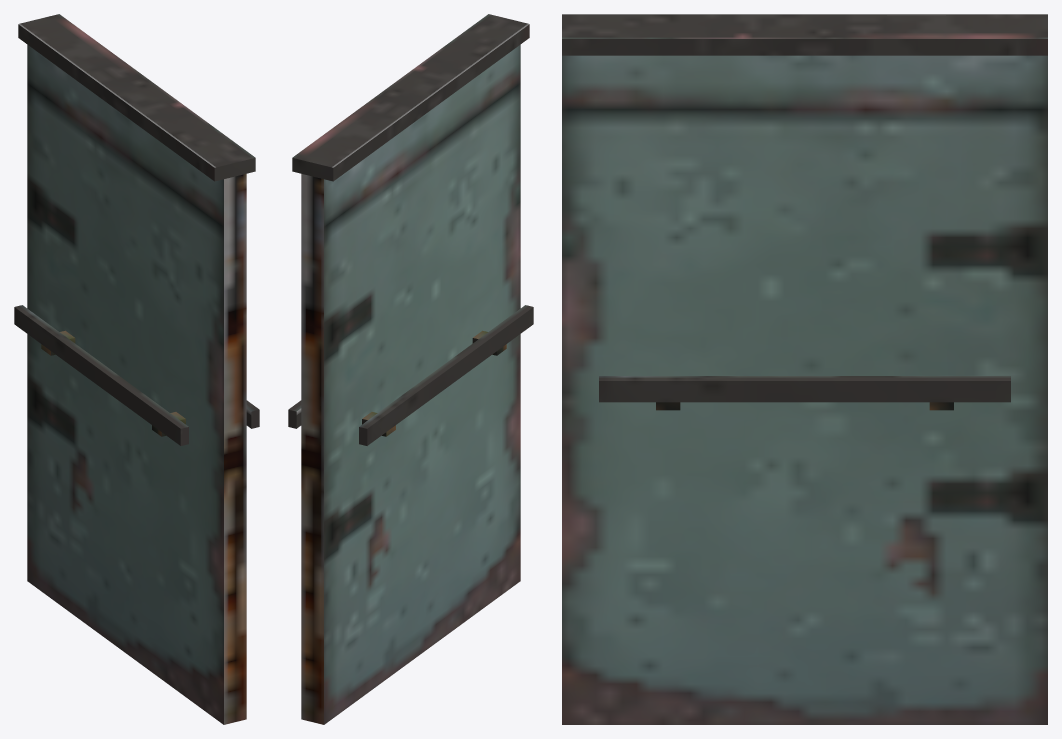
Rendered from SM_DOOR_02.fbx.
3 renders of one model, left to right at view 1: azimuth 30°, elevation 25°; view 2: azimuth 150°, elevation 25°; view 3: azimuth 270°, elevation 25°, orthographic. The views are drawn at different scales.
Visible parts, largest first — view 1: SM_DOOR_02; view 2: SM_DOOR_02; view 3: SM_DOOR_02.
Part boxes in pixels (x1,y1,x2,y2): SM_DOOR_02: (14,14,259,724); SM_DOOR_02: (288,14,533,724); SM_DOOR_02: (562,14,1047,724).
Bounding box in the file's own units: 0.3466 × 2.35 × 1.5.
